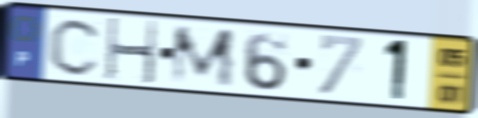1: (379, 37, 410, 105)
6: (243, 29, 289, 93)
7: (318, 32, 366, 98)
C: (46, 15, 105, 78)
H: (104, 16, 160, 87)
M: (168, 24, 237, 89)
